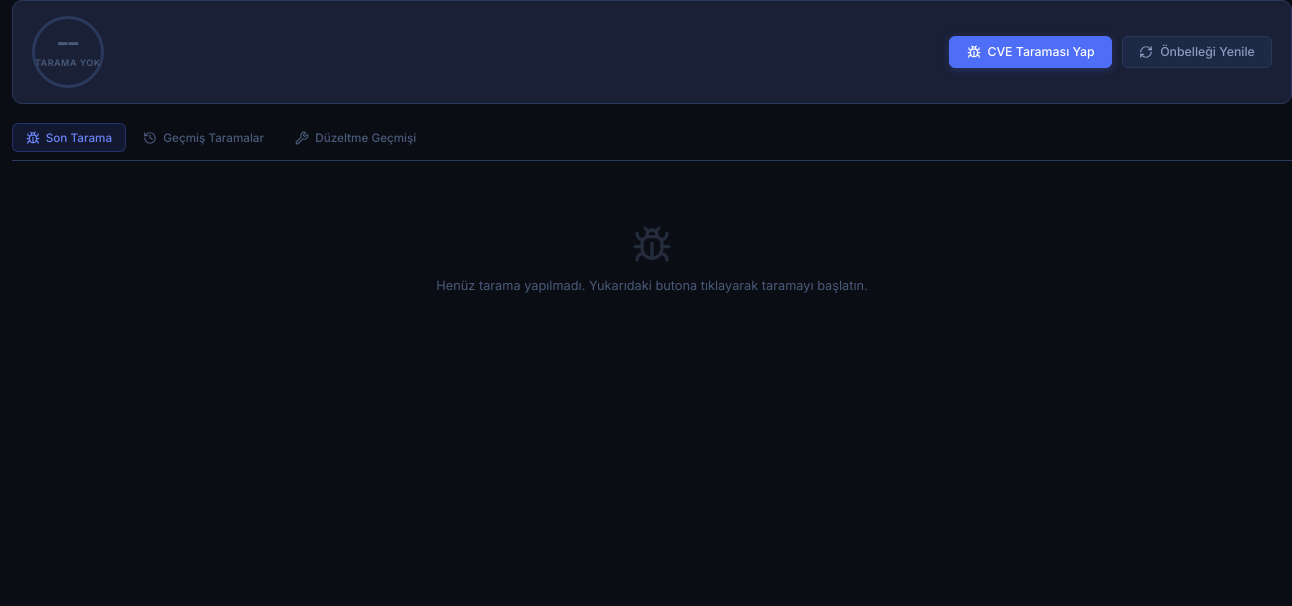
Test: VulnerabilityScanner Bileşeni › tarama sonuçları listelendiğinde düzelt butonu ve seçim kutuları görüntülenmeli
Click the button "CVE Taraması Yap": point(1031, 52) [949,36,1112,68]
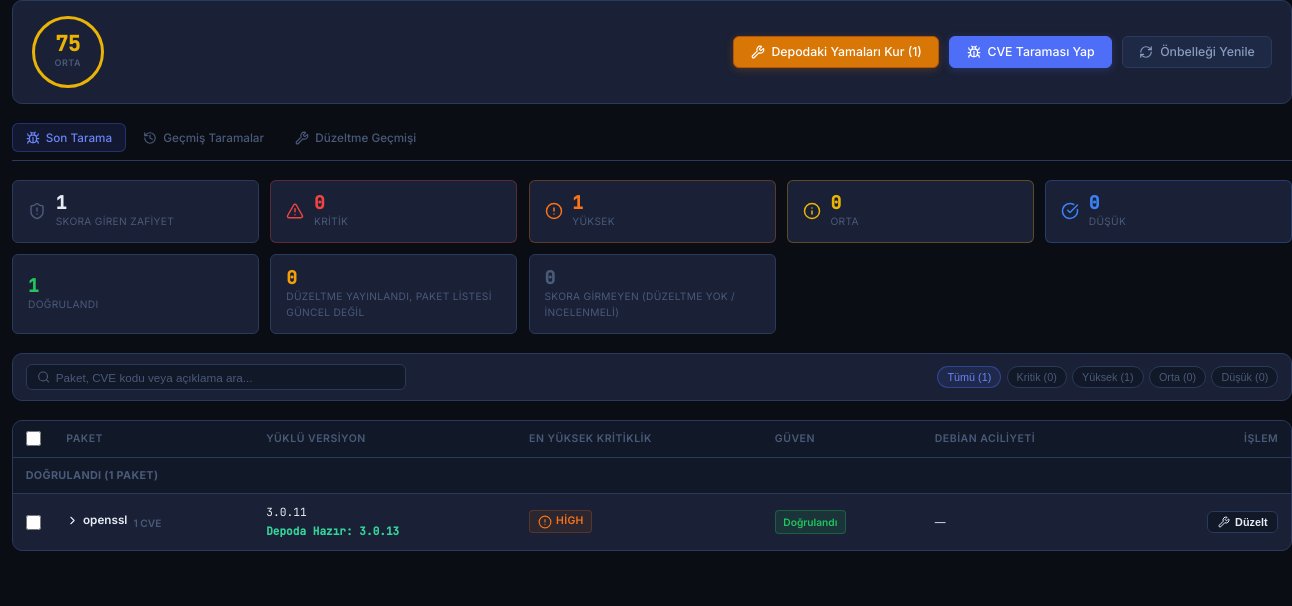
Result: the button "openssl" is shown
Result: the text "Düzelt" is shown at [1235,516,1268,527]
Click the button "openssl": point(97, 521) [66,511,127,530]
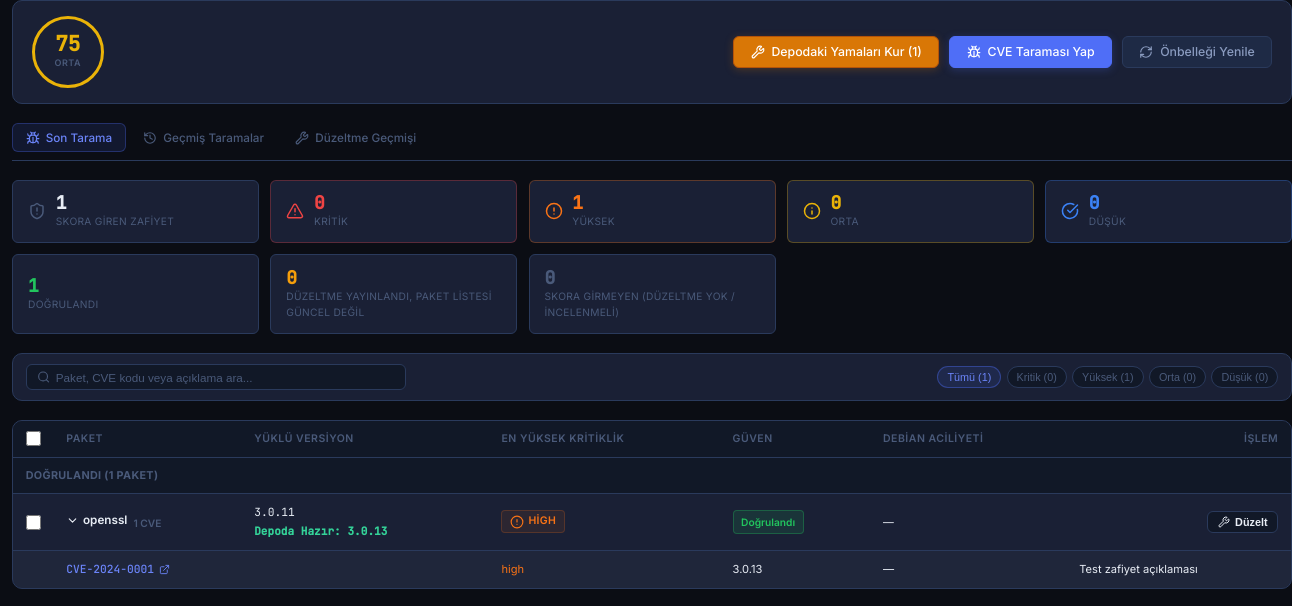
Result: the link "CVE-2024-0001" is shown at [66,560,170,578]
